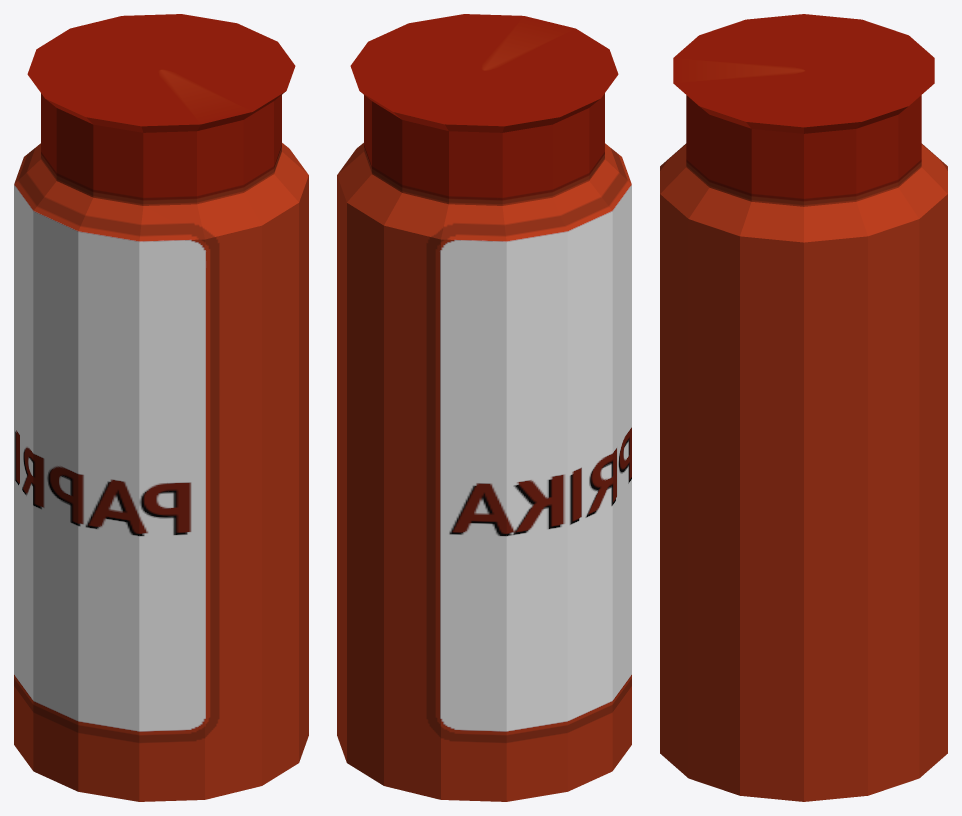
The model's file is spice_paprika.obj.
3 renders of one model, left to right at view 1: azimuth 30°, elevation 25°; view 2: azimuth 150°, elevation 25°; view 3: azimuth 270°, elevation 25°, orthographic.
Parts seen in each view (by area): view 1: spice_paprika; view 2: spice_paprika; view 3: spice_paprika.
Part boxes in pixels (x1,y1,x2,y2): spice_paprika: (14,14,308,801); spice_paprika: (337,14,631,801); spice_paprika: (660,14,947,801).
Size of the model in its own units: 0.044 by 0.11 by 0.0429.
1 material, 1 textured.
